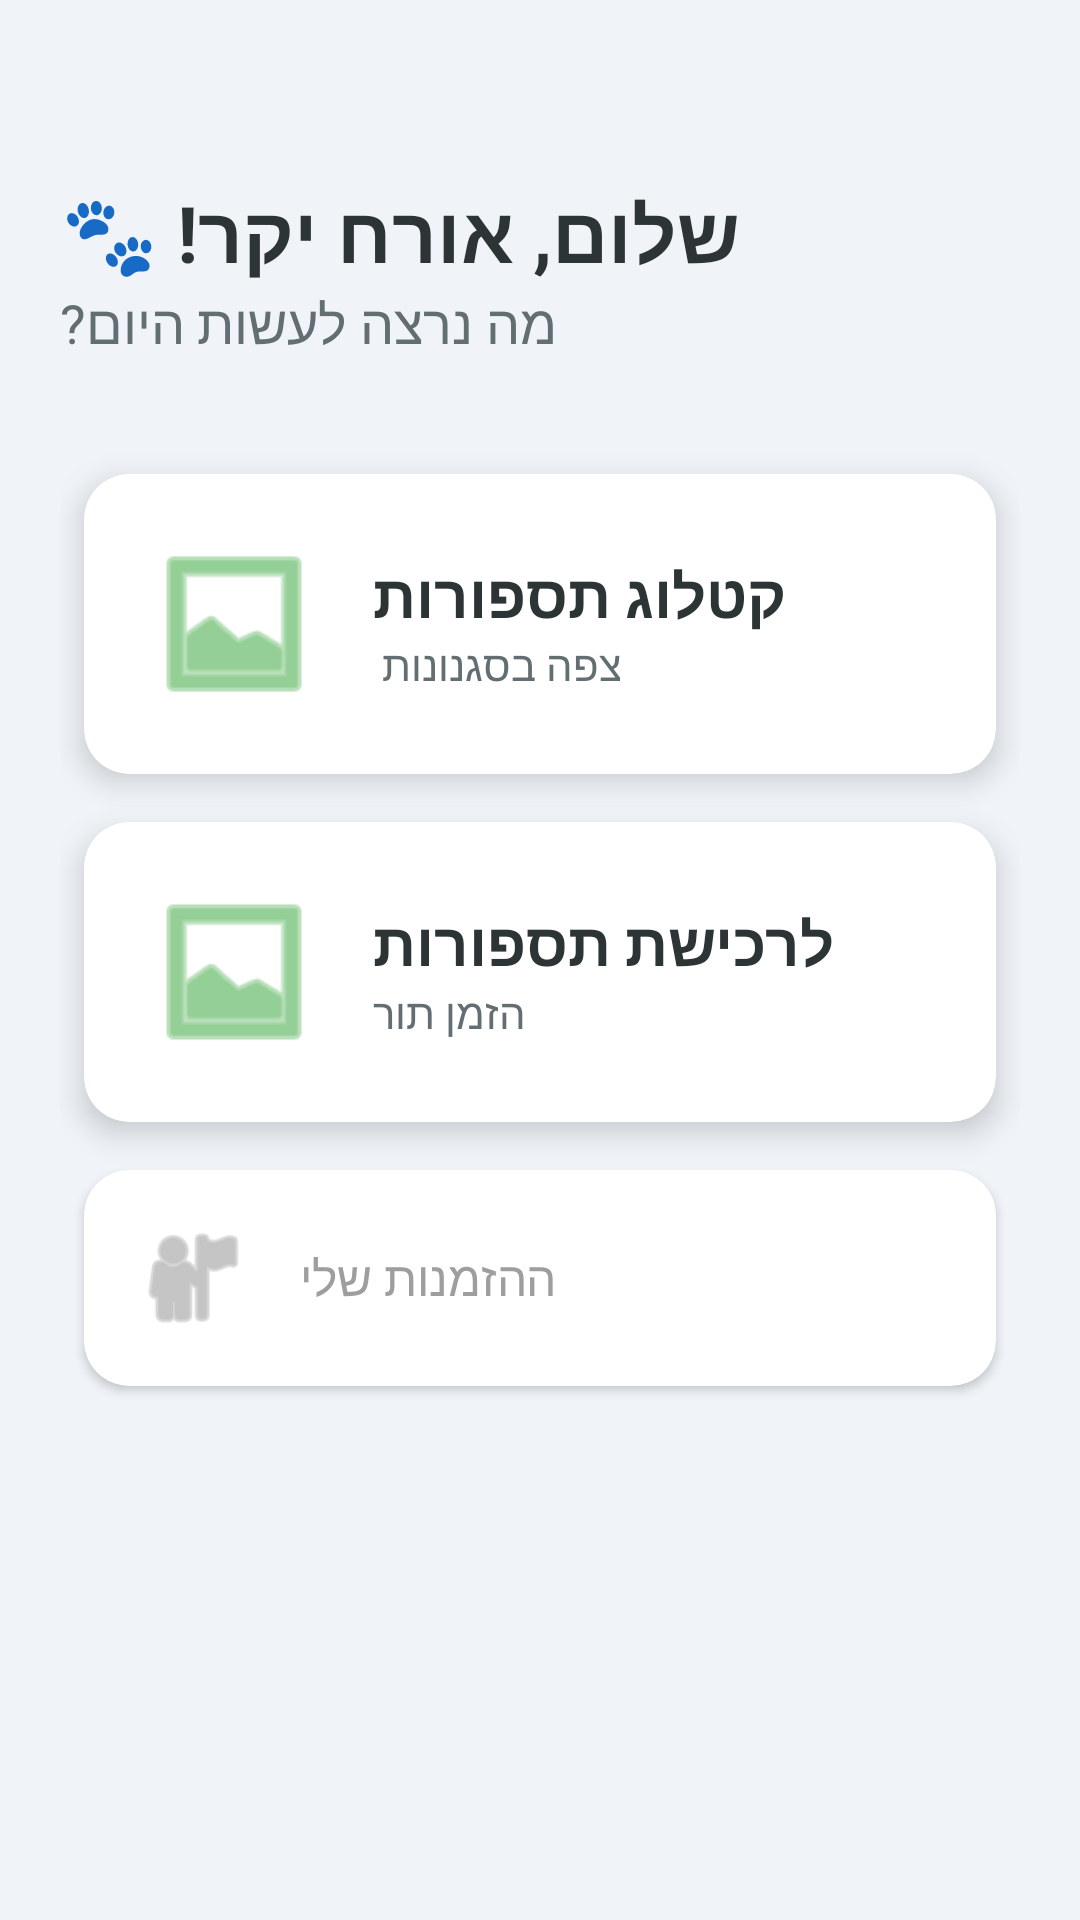

Icons on this 1080 × 1920 Android screen, each with its box as (x1,y1,x2,y2):
gallery: (166,556,302,692), (166,904,302,1040)
myplaces: (149,1234,238,1322)
